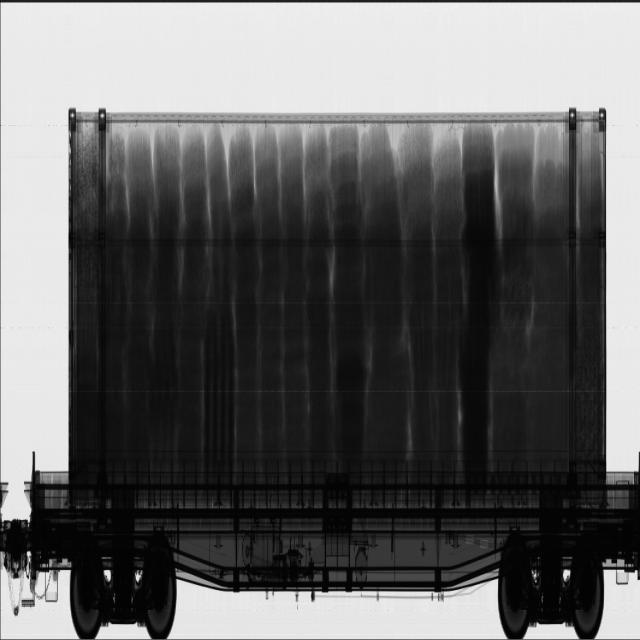textiles: (72, 122, 599, 463)
